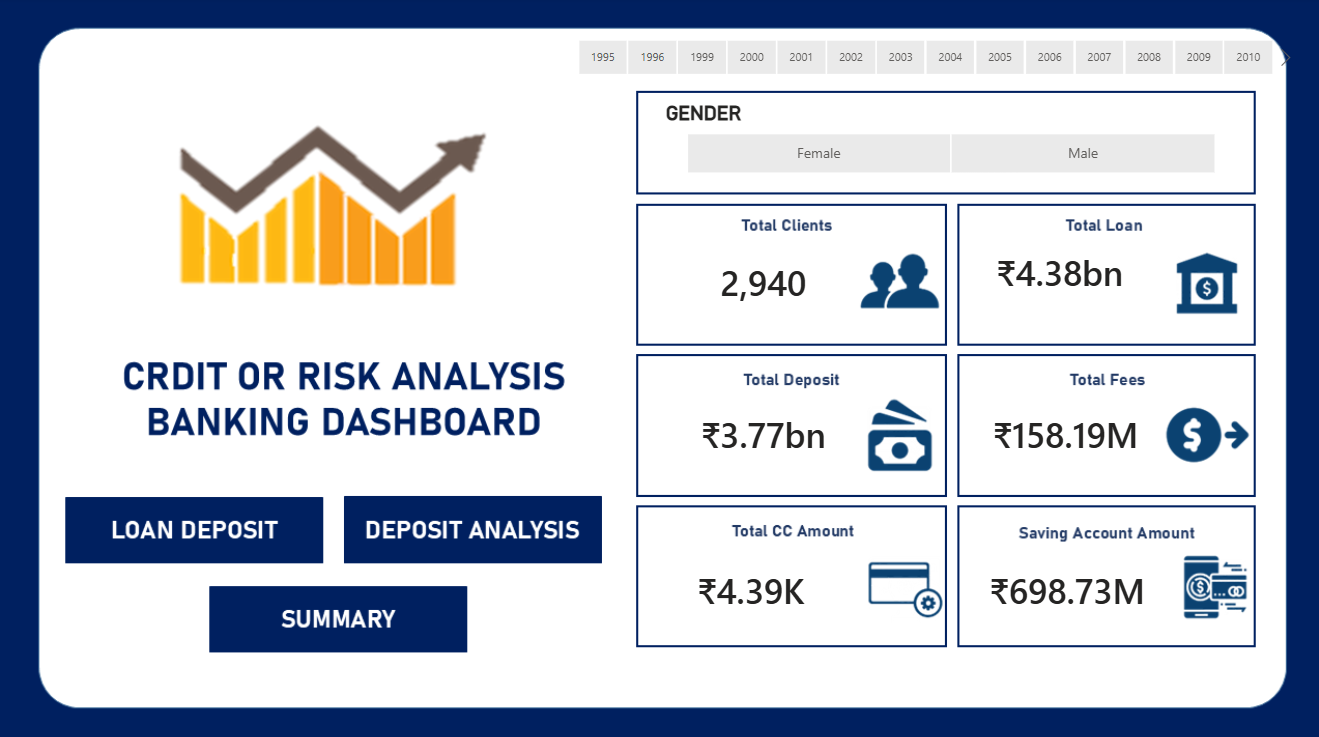

What the dashboard file says about the page in this screenshot:
{"tool":"powerbi","page":{"name":"Home","canvas":[1280,720],"ordinal":0},"visuals":[{"type":"slicer","title":"GENDER","fields":{"Values":["Gender.Gender"]},"box":[640.3,100.8,558.2,75],"z":0},{"type":"card","fields":{"Values":["DAX Measures.Total Clients"]},"box":[640.3,218.1,198.2,114.9],"z":1000},{"type":"card","fields":{"Values":["DAX Measures.Total Loan"]},"box":[933.4,208.7,184.1,114.9],"z":2000},{"type":"card","fields":{"Values":["DAX Measures.Total Deposit"]},"box":[640.3,374.1,198.2,98.5],"z":3000},{"type":"card","fields":{"Values":["DAX Measures.Total CC Amount"]},"box":[628.5,533.6,198.2,79.7],"z":4000},{"type":"card","fields":{"Values":["DAX Measures.Total Fees"]},"box":[938.1,372.9,185.3,99.7],"z":5000},{"type":"card","fields":{"Values":["DAX Measures.Savings Account"]},"box":[933.4,533.6,198.2,79.7],"z":6000},{"type":"actionButton","box":[63.3,483.1,253.3,65.7],"z":7000},{"type":"actionButton","box":[335.4,485.5,250.9,63.3],"z":8000},{"type":"actionButton","box":[205.2,573.4,255.6,61],"z":9000},{"type":"slicer","fields":{"Values":["Clients - Banking.Joined Bank.Variation.Date Hierarchy.Year"]},"box":[535.7,35,719,45.8],"z":10000}]}

Visuals, with their boxes in screenshot pixels (x1, y1, x2, y2), scaled from the page's 1280x720 canvas onto the 1319x737 screenshot:
"GENDER" slicer: bbox=[660, 103, 1235, 180]
card - DAX Measures.Total Clients: bbox=[660, 223, 864, 341]
card - DAX Measures.Total Loan: bbox=[962, 214, 1152, 331]
card - DAX Measures.Total Deposit: bbox=[660, 383, 864, 484]
card - DAX Measures.Total CC Amount: bbox=[648, 546, 852, 628]
card - DAX Measures.Total Fees: bbox=[967, 382, 1158, 484]
card - DAX Measures.Savings Account: bbox=[962, 546, 1166, 628]
actionButton: bbox=[65, 495, 326, 562]
actionButton: bbox=[346, 497, 604, 562]
actionButton: bbox=[211, 587, 475, 649]
slicer - Clients - Banking.Joined Bank.Variation.Date Hierarchy.Year: bbox=[552, 36, 1293, 83]
